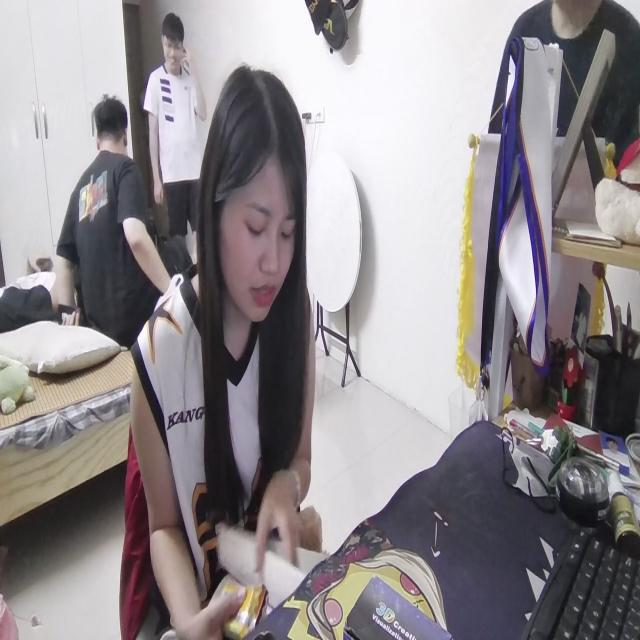book: (212, 516, 318, 599)
extra_person: (56, 100, 167, 348), (485, 0, 640, 157), (143, 12, 209, 246)
student: (129, 56, 317, 615)
